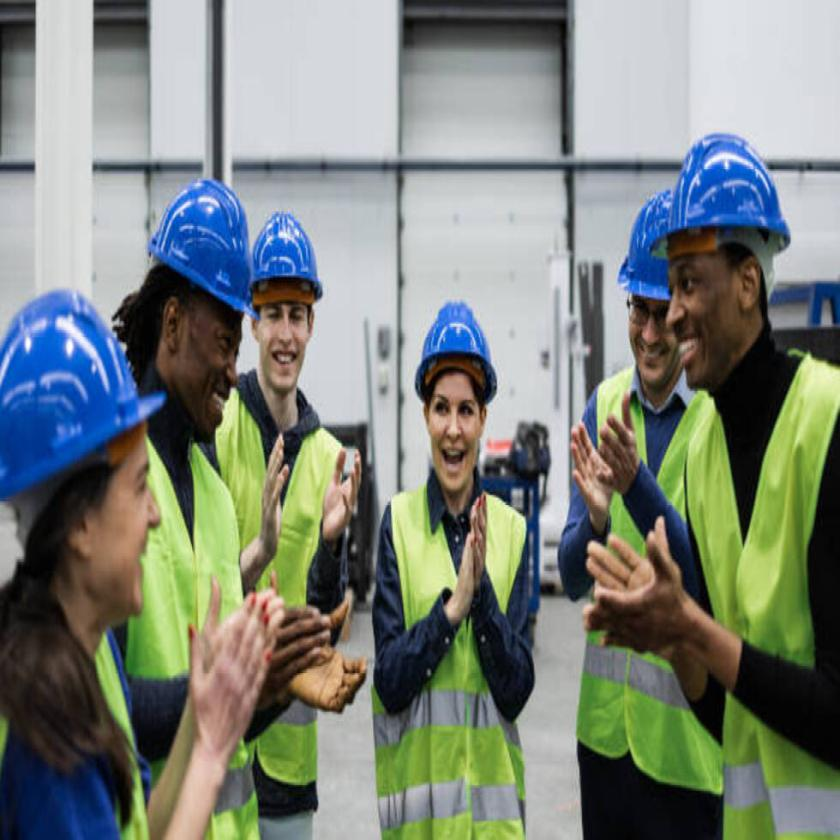Con_casco: (0, 286, 164, 634), (666, 131, 794, 410), (152, 172, 257, 470), (414, 296, 500, 496), (617, 185, 687, 390), (249, 208, 324, 397)
